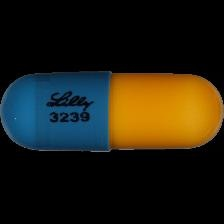68151-4488: (0, 0, 224, 224)
